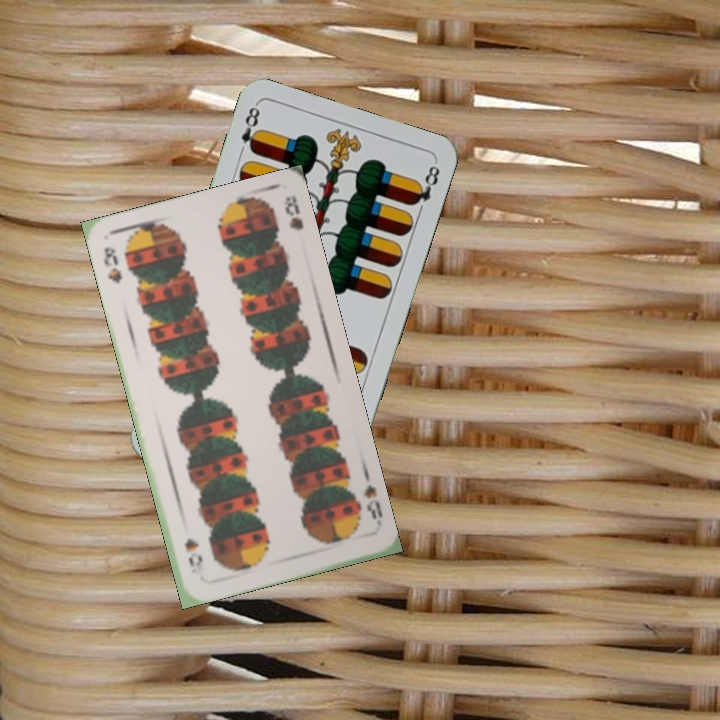E8: (237, 101, 264, 156)
S8: (359, 480, 385, 530), (99, 243, 125, 287)
